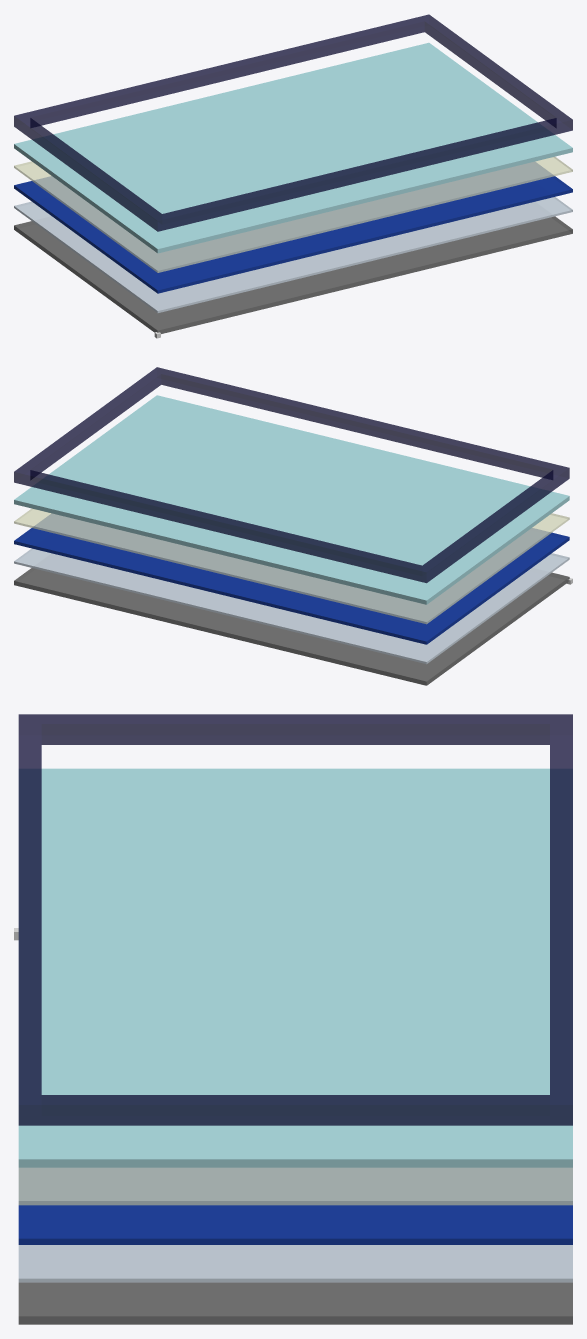
3 renders of one model, top to bottom at view 1: azimuth 30°, elevation 25°; view 2: azimuth 150°, elevation 25°; view 3: azimuth 270°, elevation 25°, orthographic. The views are drawn at different scales.
Visible parts, largest first — view 1: export- (2).005, export- (2).003, export- (2), export- (2).001, export- (2).002, export- (2).004; view 2: export- (2).005, export- (2).003, export- (2), export- (2).001, export- (2).002, export- (2).004; view 3: export- (2).005, export- (2), export- (2).003, export- (2).001, export- (2).004, export- (2).002.
Part boxes in pixels (bbox=[...]): export- (2).005: bbox=[14, 42, 572, 253]; export- (2).003: bbox=[14, 162, 572, 293]; export- (2): bbox=[14, 14, 572, 231]; export- (2).001: bbox=[14, 216, 572, 333]; export- (2).002: bbox=[14, 197, 572, 312]; export- (2).004: bbox=[14, 156, 572, 272]; export- (2).005: bbox=[14, 395, 569, 604]; export- (2).003: bbox=[14, 514, 569, 644]; export- (2): bbox=[14, 367, 569, 583]; export- (2).001: bbox=[14, 568, 569, 685]; export- (2).002: bbox=[14, 548, 569, 664]; export- (2).004: bbox=[14, 508, 569, 624]; export- (2).005: bbox=[18, 768, 572, 1167]; export- (2): bbox=[18, 714, 572, 1125]; export- (2).003: bbox=[18, 1168, 572, 1244]; export- (2).001: bbox=[18, 1282, 572, 1324]; export- (2).004: bbox=[18, 1167, 572, 1205]; export- (2).002: bbox=[18, 1245, 572, 1282].
Bounding box in the file's own units: 201 × 62.5 × 121.
